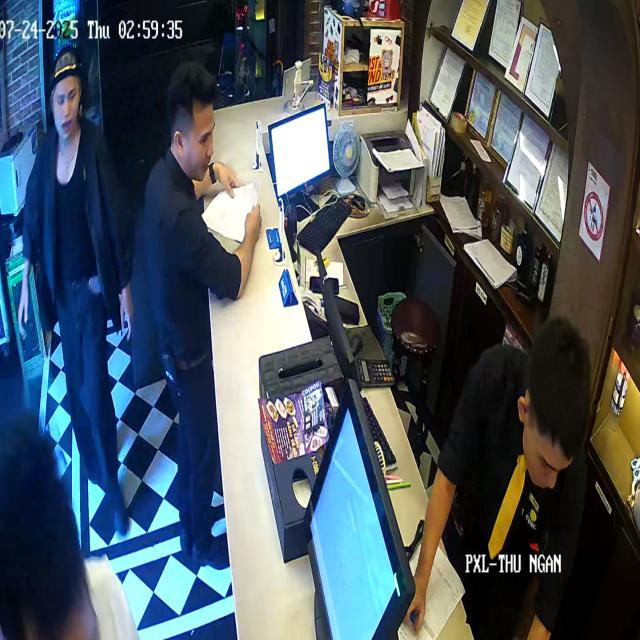khach: (17, 18, 136, 541)
nhan vien: (411, 269, 597, 640), (140, 56, 268, 589)
